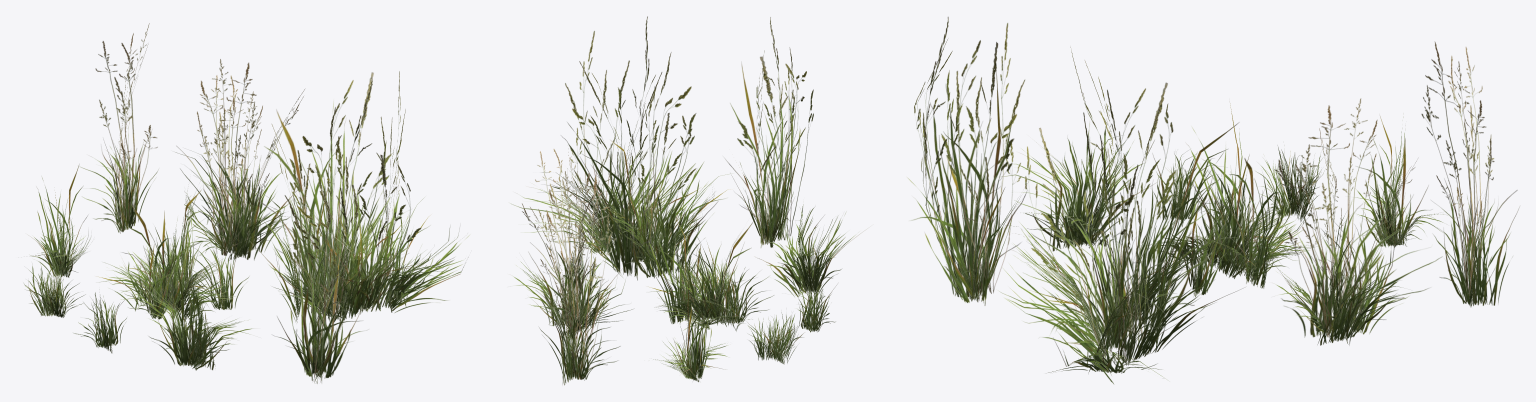
Rendered from runtime-galapagos-bushes.glb.
3 views of the same model, side by side, from view 1: azimuth 30°, elevation 25°; view 2: azimuth 150°, elevation 25°; view 3: azimuth 270°, elevation 25° (orthographic). The views are drawn at different scales.
Parts seen in each view (by area): view 1: tall_bush_1, tall_bush_3, Medium_bush_1, tall_bush_2, tall_bush_4, Medium_bush_2, Medium_bush_3, Small_bush_1, Small_bush_2; view 2: tall_bush_1, tall_bush_3, tall_bush_2, Medium_bush_1, tall_bush_4, Medium_bush_2, Medium_bush_3, Small_bush_1, Small_bush_2; view 3: tall_bush_1, tall_bush_2, tall_bush_3, Medium_bush_1, tall_bush_4, Medium_bush_2, Medium_bush_3, Small_bush_1, Small_bush_2.
Part boxes in pixels (bbox=[...]): tall_bush_1: bbox=[250, 71, 470, 322]; tall_bush_3: bbox=[175, 59, 305, 260]; Medium_bush_1: bbox=[96, 189, 249, 324]; tall_bush_2: bbox=[273, 150, 368, 383]; tall_bush_4: bbox=[79, 23, 158, 233]; Medium_bush_2: bbox=[132, 262, 256, 370]; Medium_bush_3: bbox=[27, 164, 90, 277]; Small_bush_1: bbox=[23, 259, 85, 317]; Small_bush_2: bbox=[73, 292, 126, 353]; tall_bush_1: bbox=[510, 16, 733, 280]; tall_bush_3: bbox=[508, 148, 632, 335]; tall_bush_2: bbox=[724, 17, 813, 247]; Medium_bush_1: bbox=[645, 219, 773, 334]; tall_bush_4: bbox=[535, 176, 620, 385]; Medium_bush_2: bbox=[754, 204, 870, 297]; Medium_bush_3: bbox=[653, 269, 729, 381]; Small_bush_1: bbox=[747, 312, 803, 364]; Small_bush_2: bbox=[793, 278, 836, 332]; tall_bush_1: bbox=[998, 47, 1244, 384]; tall_bush_2: bbox=[907, 16, 1027, 305]; tall_bush_3: bbox=[1270, 98, 1442, 345]; Medium_bush_1: bbox=[1145, 101, 1313, 297]; tall_bush_4: bbox=[1421, 41, 1519, 307]; Medium_bush_2: bbox=[998, 122, 1157, 251]; Medium_bush_3: bbox=[1355, 114, 1447, 247]; Small_bush_1: bbox=[1255, 145, 1323, 223]; Small_bush_2: bbox=[1152, 150, 1219, 226].
Size of the model in its own units: 224 by 145 by 256.
1 material, 1 textured.
